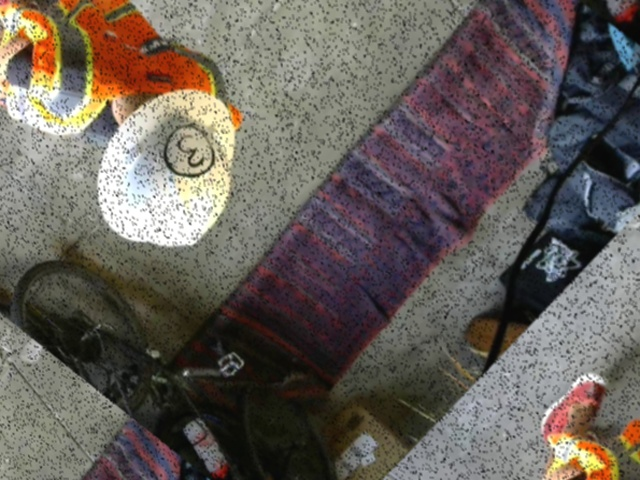three: (151, 115, 225, 188)
